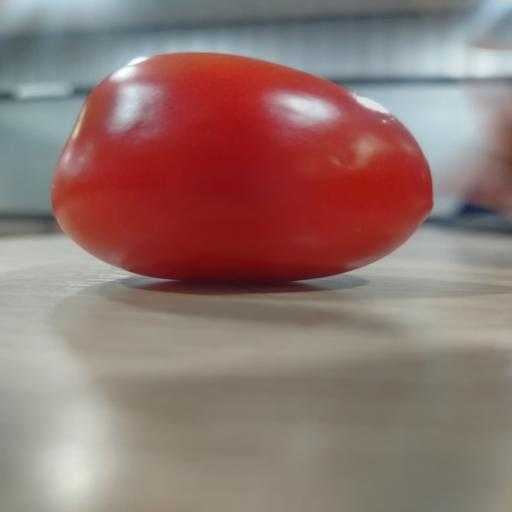ripe: (52, 53, 432, 281)
